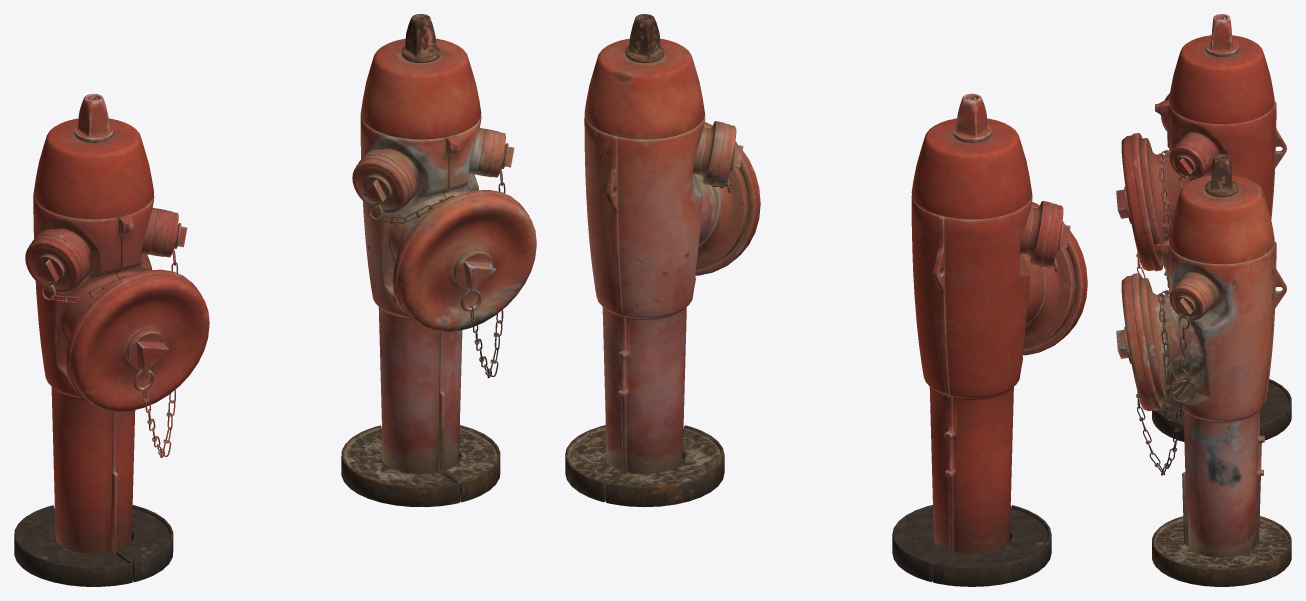
File: fire_hydrant.glb
3 renders of one model, left to right at view 1: azimuth 30°, elevation 25°; view 2: azimuth 150°, elevation 25°; view 3: azimuth 270°, elevation 25°, orthographic. The views are drawn at different scales.
Parts seen in each view (by area): view 1: fire_hydrant, fire_hydrant_aged; view 2: fire_hydrant, fire_hydrant_aged; view 3: fire_hydrant_aged, fire_hydrant.
Boxes of the visible parts, bbox=[...] form: fire_hydrant: bbox=[14, 93, 209, 586]; fire_hydrant_aged: bbox=[341, 14, 536, 506]; fire_hydrant: bbox=[892, 93, 1087, 586]; fire_hydrant_aged: bbox=[565, 14, 760, 507]; fire_hydrant_aged: bbox=[1116, 154, 1291, 586]; fire_hydrant: bbox=[1116, 14, 1291, 441].
Size of the model in its own units: 0.8746 by 0.7995 by 0.3177.
2 materials, 2 textured.
